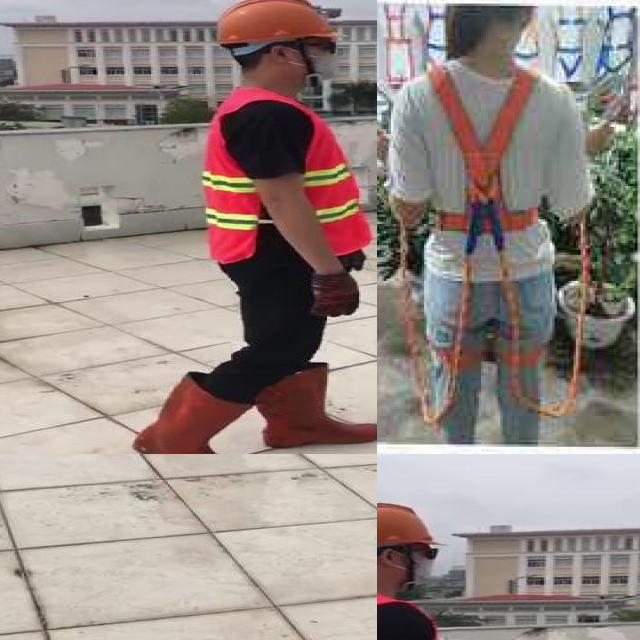Harness: (393, 56, 581, 420)
boots: (257, 363, 377, 448), (131, 372, 248, 454)
face_mask: (289, 38, 349, 82), (385, 540, 440, 587)
hand_glove: (309, 272, 363, 319)
head_helmet: (213, 0, 343, 47), (377, 498, 443, 548)
person: (122, 0, 377, 454), (377, 496, 481, 640)
vest: (201, 90, 371, 258)
